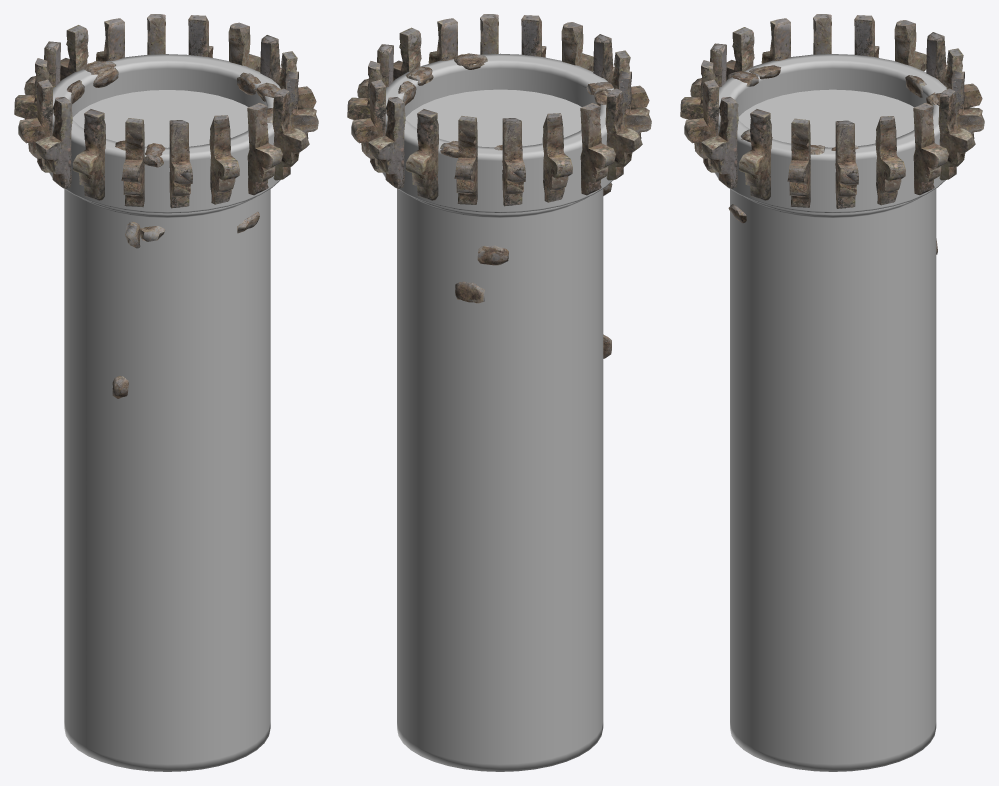
The model's file is SM_EntranceLargePillar04.FBX.
3 renders of one model, left to right at view 1: azimuth 30°, elevation 25°; view 2: azimuth 150°, elevation 25°; view 3: azimuth 270°, elevation 25°, orthographic.
Parts seen in each view (by area): view 1: SM_EntranceLargePillar04; view 2: SM_EntranceLargePillar04; view 3: SM_EntranceLargePillar04.
Boxes of the visible parts, <box> form: SM_EntranceLargePillar04: <box>14,14,318,771</box>; SM_EntranceLargePillar04: <box>347,14,651,771</box>; SM_EntranceLargePillar04: <box>680,14,984,771</box>.
Size of the model in its own units: 890 by 886 by 2124.
